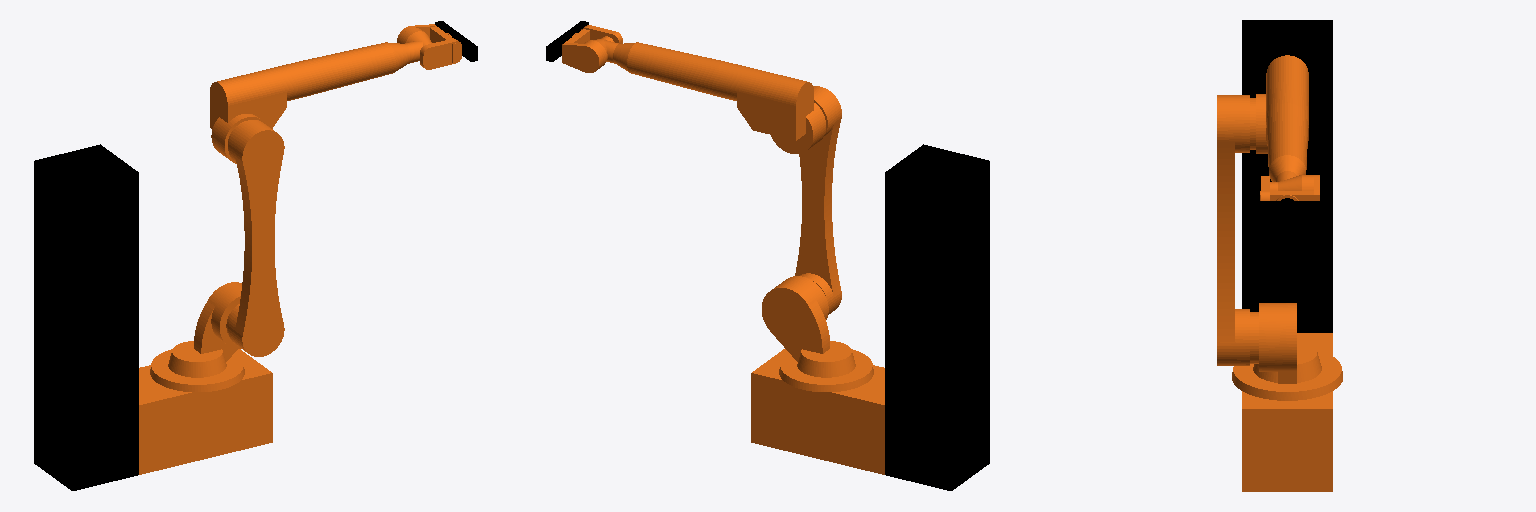
robot.urdf — kr20:
<?xml version="1.0" ?>
<!-- =================================================================================== -->
<!-- |    This document was autogenerated by xacro from kr20.xacro                     | -->
<!-- |    EDITING THIS FILE BY HAND IS NOT RECOMMENDED                                 | -->
<!-- =================================================================================== -->
<robot name="kr20">
  <!-- END - Include -->
  <!-- World frame (for Gazebo) -->
  <link name="world"/>
  <!-- Arm fixed to world frame  -->
  <joint name="world__base" type="fixed">
    <parent link="world"/>
    <child link="base"/>
    <origin rpy="0 0 0" xyz="0 0 0"/>
  </joint>
  <link name="base">
    <inertial>
      <mass value="157.633"/>
      <origin rpy="0 0 0" xyz="-0.5 0 0.65"/>
      <mass value="157.633"/>
      <inertia ixx="23.382228333333337" ixy="0" ixz="0" iyy="23.382228333333337" iyz="0" izz="2.364495"/>
    </inertial>
    <collision>
      <origin rpy="0 0 0" xyz="-0.5 0 0.65"/>
      <geometry>
        <box size="0.3 0.3 1.3"/>
      </geometry>
    </collision>
    <visual>
      <origin rpy="0 0 0" xyz="-0.5 0 0.65"/>
      <geometry>
        <box size="0.3 0.3 1.3"/>
      </geometry>
      <material name="Black"/>
    </visual>
  </link>
  <material name="Orange">
    <color rgba="0.95 0.5 0.15 1.0"/>
  </material>
  <material name="Grey">
    <color rgba="0.7 0.7 0.7 1.0"/>
  </material>
  <material name="Black">
    <color rgba="0.0 0.0 0.0 1.0"/>
  </material>
  <gazebo reference="base">
    <material>Gazebo/Black</material>
  </gazebo>
  <gazebo reference="link12">
    <material>Gazebo/Orange</material>
  </gazebo>
  <gazebo reference="link01">
    <material>Gazebo/Orange</material>
  </gazebo>
  <gazebo reference="link02">
    <material>Gazebo/Orange</material>
  </gazebo>
  <gazebo reference="link03">
    <material>Gazebo/Orange</material>
  </gazebo>
  <gazebo reference="link04">
    <material>Gazebo/Orange</material>
  </gazebo>
  <gazebo reference="link05">
    <material>Gazebo/Orange</material>
  </gazebo>
  <gazebo reference="gripper">
    <material>Gazebo/Black</material>
  </gazebo>
  <gazebo reference="gripper_left">
    <material>Gazebo/White</material>
    <mu1>1.0</mu1>
    <mu2>1.0</mu2>
    <kp>1000000.0</kp>
    <kd>1.0</kd>
    <minDepth>0.001</minDepth>
    <!--maxVel>0.1</maxVel>
    <fdir1>1 0 0</fdir1-->
  </gazebo>
  <gazebo reference="gripper_right">
    <material>Gazebo/White</material>
    <mu1>1.0</mu1>
    <mu2>1.0</mu2>
    <kp>1000000.0</kp>
    <kd>1.0</kd>
    <minDepth>0.001</minDepth>
    <!--maxVel>0.1</maxVel>
    <fdir1>1 0 0</fdir1-->
  </gazebo>
  <!-- BEGIN - Robot description -->
  <joint name="base__link01" type="prismatic">
    <axis xyz="0 0 1"/>
    <limit effort="1000" lower="0" upper="1" velocity="0.5"/>
    <origin rpy="0 0 0" xyz="0 0 0.15"/>
    <parent link="base"/>
    <child link="link12"/>
  </joint>
  <transmission name="trans_base__link01">
    <type>transmission_interface/SimpleTransmission</type>
    <joint name="base__link01">
      <hardwareInterface>hardware_interface/PositionJointInterface</hardwareInterface>
    </joint>
    <actuator name="motor_base__link01">
      <hardwareInterface>hardware_interface/PositionJointInterface</hardwareInterface>
      <mechanicalReduction>100</mechanicalReduction>
    </actuator>
  </transmission>
  <link name="link12">
    <inertial>
      <mass value="157.633"/>
      <origin rpy="0 0 0" xyz="-0.05 0 0"/>
      <mass value="157.633"/>
      <inertia ixx="2.364495" ixy="0" ixz="0" iyy="5.9112374999999995" iyz="0" izz="5.9112374999999995"/>
    </inertial>
    <collision>
      <origin rpy="0 0 0" xyz="-0.05 0 0"/>
      <geometry>
        <box size="0.6 0.3 0.3"/>
      </geometry>
    </collision>
    <visual>
      <origin rpy="0 0 0" xyz="-0.05 0 0"/>
      <geometry>
        <box size="0.6 0.3 0.3"/>
      </geometry>
      <material name="Orange"/>
    </visual>
  </link>
  <joint name="link12__link01" type="revolute">
    <axis xyz="0 0 1"/>
    <limit effort="1000" lower="-2" upper="2" velocity="0.5"/>
    <origin rpy="0 0 0" xyz="0 0 0.15"/>
    <parent link="link12"/>
    <child link="link01"/>
  </joint>
  <transmission name="trans_link12__link01">
    <type>transmission_interface/SimpleTransmission</type>
    <joint name="link12__link01">
      <hardwareInterface>hardware_interface/PositionJointInterface</hardwareInterface>
    </joint>
    <actuator name="motor_link12__link01">
      <hardwareInterface>hardware_interface/PositionJointInterface</hardwareInterface>
      <mechanicalReduction>100</mechanicalReduction>
    </actuator>
  </transmission>
  <link name="link01">
    <inertial>
      <mass value="157.633"/>
      <origin rpy="0 0 0" xyz="0 0 0"/>
      <inertia ixx="13.235" ixy="0" ixz="0" iyy="13.235" iyz="0" izz="9.655"/>
    </inertial>
    <collision>
      <origin rpy="0 0 0" xyz="0 0 0"/>
      <geometry>
        <mesh filename="package://kuka_kr20_description/meshes/link01.stl" scale="0.001 0.001 0.001"/>
      </geometry>
    </collision>
    <visual>
      <origin rpy="0 0 0" xyz="0 0 0"/>
      <geometry>
        <mesh filename="package://kuka_kr20_description/meshes/link01.stl" scale="0.001 0.001 0.001"/>
      </geometry>
      <material name="Orange"/>
    </visual>
  </link>
  <joint name="link01__link02" type="revolute">
    <axis xyz="0 1 0"/>
    <limit effort="1000" lower="-1.5708" upper="1.7453" velocity="0.5"/>
    <origin rpy="0 0 0" xyz="0.160 -0.095 0.220"/>
    <parent link="link01"/>
    <child link="link02"/>
  </joint>
  <transmission name="trans_link01__link02">
    <type>transmission_interface/SimpleTransmission</type>
    <joint name="link01__link02">
      <hardwareInterface>hardware_interface/PositionJointInterface</hardwareInterface>
    </joint>
    <actuator name="motor_link01__link02">
      <hardwareInterface>hardware_interface/PositionJointInterface</hardwareInterface>
      <mechanicalReduction>100</mechanicalReduction>
    </actuator>
  </transmission>
  <link name="link02">
    <inertial>
      <mass value="10"/>
      <origin rpy="0 0 0" xyz="0 0 0"/>
      <inertia ixx="10" ixy="0" ixz="0" iyy="10" iyz="0" izz="10"/>
    </inertial>
    <collision>
      <origin rpy="0 0 0" xyz="0 0 0"/>
      <geometry>
        <mesh filename="package://kuka_kr20_description/meshes/link02.stl" scale="0.001 0.001 0.001"/>
      </geometry>
    </collision>
    <visual>
      <origin rpy="0 0 0" xyz="0 0 0"/>
      <geometry>
        <mesh filename="package://kuka_kr20_description/meshes/link02.stl" scale="0.001 0.001 0.001"/>
      </geometry>
      <material name="Orange"/>
    </visual>
  </link>
  <joint name="link02__link03" type="revolute">
    <axis xyz="0 -1 0"/>
    <limit effort="1000" lower="-1.55" upper="2" velocity="0.5"/>
    <origin rpy="0 0 0" xyz="0.00 -0.01 0.780"/>
    <parent link="link02"/>
    <child link="link03"/>
  </joint>
  <transmission name="trans_link02__link03">
    <type>transmission_interface/SimpleTransmission</type>
    <joint name="link02__link03">
      <hardwareInterface>hardware_interface/PositionJointInterface</hardwareInterface>
    </joint>
    <actuator name="motor_link02__link03">
      <hardwareInterface>hardware_interface/PositionJointInterface</hardwareInterface>
      <mechanicalReduction>100</mechanicalReduction>
    </actuator>
  </transmission>
  <link name="link03">
    <inertial>
      <mass value="7"/>
      <origin rpy="0 0 0" xyz="0 0 0"/>
      <inertia ixx="5" ixy="0" ixz="0" iyy="5" iyz="0" izz="5"/>
    </inertial>
    <collision>
      <origin rpy="0 0 0" xyz="0 0 0"/>
      <geometry>
        <mesh filename="package://kuka_kr20_description/meshes/link03.stl" scale="0.001 0.001 0.001"/>
      </geometry>
    </collision>
    <visual>
      <origin rpy="0 0 0" xyz="0 0 0"/>
      <geometry>
        <mesh filename="package://kuka_kr20_description/meshes/link03.stl" scale="0.001 0.001 0.001"/>
      </geometry>
      <material name="Orange"/>
    </visual>
  </link>
  <joint name="link03__link04" type="revolute">
    <axis xyz="1 0 0"/>
    <limit effort="1000" lower="-3.0" upper="3.0" velocity="0.5"/>
    <origin rpy="0 0 0" xyz="0.700 0.105 0.150"/>
    <parent link="link03"/>
    <child link="link04"/>
  </joint>
  <transmission name="trans_link03__link04">
    <type>transmission_interface/SimpleTransmission</type>
    <joint name="link03__link04">
      <hardwareInterface>hardware_interface/PositionJointInterface</hardwareInterface>
    </joint>
    <actuator name="motor_link03__link04">
      <hardwareInterface>hardware_interface/PositionJointInterface</hardwareInterface>
      <mechanicalReduction>100</mechanicalReduction>
    </actuator>
  </transmission>
  <link name="link04">
    <inertial>
      <mass value="2"/>
      <origin rpy="0 0 0" xyz="0 0 0"/>
      <inertia ixx="1" ixy="0" ixz="0" iyy="1" iyz="0" izz="1"/>
    </inertial>
    <collision>
      <origin rpy="0 0 0" xyz="0 0 0"/>
      <geometry>
        <mesh filename="package://kuka_kr20_description/meshes/link04.stl" scale="0.001 0.001 0.001"/>
      </geometry>
    </collision>
    <visual>
      <origin rpy="0 0 0" xyz="0 0 0"/>
      <geometry>
        <mesh filename="package://kuka_kr20_description/meshes/link04.stl" scale="0.001 0.001 0.001"/>
      </geometry>
      <material name="Orange"/>
    </visual>
  </link>
  <joint name="link04__link05" type="revolute">
    <axis xyz="0 -1 0"/>
    <limit effort="1000" lower="-2.0" upper="2.0" velocity="0.5"/>
    <origin rpy="0 0 0" xyz="0.155 0.000 0.000"/>
    <parent link="link04"/>
    <child link="link05"/>
  </joint>
  <transmission name="trans_link04__link05">
    <type>transmission_interface/SimpleTransmission</type>
    <joint name="link04__link05">
      <hardwareInterface>hardware_interface/PositionJointInterface</hardwareInterface>
    </joint>
    <actuator name="motor_link04__link05">
      <hardwareInterface>hardware_interface/PositionJointInterface</hardwareInterface>
      <mechanicalReduction>100</mechanicalReduction>
    </actuator>
  </transmission>
  <link name="link05">
    <inertial>
      <mass value="2"/>
      <origin rpy="0 0 0" xyz="0 0 0"/>
      <inertia ixx="1" ixy="0" ixz="0" iyy="1" iyz="0" izz="1"/>
    </inertial>
    <collision>
      <origin rpy="0 0 0" xyz="0 0 0"/>
      <geometry>
        <mesh filename="package://kuka_kr20_description/meshes/link05.stl" scale="0.001 0.001 0.001"/>
      </geometry>
    </collision>
    <visual>
      <origin rpy="0 0 0" xyz="0 0 0"/>
      <geometry>
        <mesh filename="package://kuka_kr20_description/meshes/link05.stl" scale="0.001 0.001 0.001"/>
      </geometry>
      <material name="Orange"/>
    </visual>
  </link>
  <!-- GRIPPER START HERE -->
  <joint name="link05__gripper" type="revolute">
    <axis xyz="1 0 0"/>
    <limit effort="1000" lower="-1.57" upper="1.57" velocity="0.5"/>
    <origin rpy="0 0 0" xyz="0.115 0 0"/>
    <parent link="link05"/>
    <child link="gripper"/>
  </joint>
  <transmission name="trans_link05__gripper">
    <type>transmission_interface/SimpleTransmission</type>
    <joint name="link05__gripper">
      <hardwareInterface>hardware_interface/PositionJointInterface</hardwareInterface>
    </joint>
    <actuator name="motor_link05__gripper">
      <hardwareInterface>hardware_interface/PositionJointInterface</hardwareInterface>
      <mechanicalReduction>100</mechanicalReduction>
    </actuator>
  </transmission>
  <link name="gripper">
    <inertial>
      <mass value="1"/>
      <origin rpy="0 0 0" xyz="0 0 0"/>
      <inertia ixx="1" ixy="0" ixz="0" iyy="1" iyz="0" izz="1"/>
    </inertial>
    <collision>
      <origin rpy="0 0 0" xyz="0 0 0"/>
      <geometry>
        <mesh filename="package://kuka_kr20_description/meshes/gripper_base01.stl" scale="0.001 0.001 0.001"/>
      </geometry>
    </collision>
    <visual>
      <origin rpy="0 0 0" xyz="0 0 0"/>
      <geometry>
        <mesh filename="package://kuka_kr20_description/meshes/gripper_base01.stl" scale="0.001 0.001 0.001"/>
      </geometry>
      <material name="Black"/>
    </visual>
  </link>
  <joint name="gripper__gripper_left" type="prismatic">
    <axis xyz="1 0 0"/>
    <limit effort="1000" lower="-0.09" upper="0.0" velocity="0.5"/>
    <origin rpy="1.5708 0 1.5708" xyz="0.04 0.00 0.000"/>
    <parent link="gripper"/>
    <child link="gripper_left"/>
  </joint>
  <transmission name="trans_gripper__gripper_left">
    <type>transmission_interface/SimpleTransmission</type>
    <joint name="gripper__gripper_left">
      <hardwareInterface>hardware_interface/PositionJointInterface</hardwareInterface>
    </joint>
    <actuator name="motor_gripper__gripper_left">
      <hardwareInterface>hardware_interface/PositionJointInterface</hardwareInterface>
      <mechanicalReduction>100</mechanicalReduction>
    </actuator>
  </transmission>
  <link name="gripper_left">
    <inertial>
      <mass value="0.1"/>
      <origin rpy="0 0 0" xyz="0 0 0"/>
      <inertia ixx="1" ixy="0" ixz="0" iyy="1" iyz="0" izz="1"/>
    </inertial>
    <collision>
      <origin rpy="0 0 0" xyz="0 0 0"/>
      <geometry>
        <mesh filename="package://kuka_kr20_description/meshes/gripper_left.stl" scale="0.001 0.001 0.001"/>
      </geometry>
    </collision>
    <visual>
      <origin rpy="0 0 0" xyz="0 0 0"/>
      <geometry>
        <mesh filename="package://kuka_kr20_description/meshes/gripper_left.stl" scale="0.001 0.001 0.001"/>
      </geometry>
      <material name="Grey"/>
    </visual>
  </link>
  <joint name="gripper__gripper_right" type="prismatic">
    <axis xyz="1 0 0"/>
    <limit effort="1000" lower="0.0" upper="0.09" velocity="0.5"/>
    <origin rpy="1.5708 0 1.5708" xyz="0.04 0.00 0.000"/>
    <parent link="gripper"/>
    <child link="gripper_right"/>
  </joint>
  <transmission name="trans_gripper__gripper_right">
    <type>transmission_interface/SimpleTransmission</type>
    <joint name="gripper__gripper_right">
      <hardwareInterface>hardware_interface/PositionJointInterface</hardwareInterface>
    </joint>
    <actuator name="motor_gripper__gripper_right">
      <hardwareInterface>hardware_interface/PositionJointInterface</hardwareInterface>
      <mechanicalReduction>100</mechanicalReduction>
    </actuator>
  </transmission>
  <link name="gripper_right">
    <inertial>
      <mass value="0.1"/>
      <origin rpy="0 0 0" xyz="0 0 0"/>
      <inertia ixx="1" ixy="0" ixz="0" iyy="1" iyz="0" izz="1"/>
    </inertial>
    <collision>
      <origin rpy="0 0 0" xyz="0 0 0"/>
      <geometry>
        <mesh filename="package://kuka_kr20_description/meshes/gripper_right.stl" scale="0.001 0.001 0.001"/>
      </geometry>
    </collision>
    <visual>
      <origin rpy="0 0 0" xyz="0 0 0"/>
      <geometry>
        <mesh filename="package://kuka_kr20_description/meshes/gripper_right.stl" scale="0.001 0.001 0.001"/>
      </geometry>
      <material name="Grey"/>
    </visual>
  </link>
  <!-- GRIPPER END HERE -->
  <!-- END - Robot description -->
  <gazebo>
    <plugin filename="libgazebo_ros_control.so" name="gazebo_ros_control">
      <robotSimType>gazebo_ros_control/DefaultRobotHWSim</robotSimType>
      <robotNamespace>/kr20</robotNamespace>
      <legacyModeNS>true</legacyModeNS>
    </plugin>
  </gazebo>
</robot>

--- Render facts (derived) ---
Views: 3 orthographic renders of the robot side by side, from view 1: azimuth 30°, elevation 25°; view 2: azimuth 150°, elevation 25°; view 3: azimuth 270°, elevation 25°.
Robot: kr20 — 11 links, 10 joints (6 revolute, 3 prismatic, 1 fixed); root link world; default pose: every joint at zero.
Visible links, largest first — view 1: base, link12, link02, link03, link01, link05, link04, gripper; view 2: base, link12, link03, link01, link02, link05, link04, gripper; view 3: base, link12, link02, link01, link03, gripper, link04, link05.
Boxes of the visible links, x1,y1,x2,y2 form: base: (34,144,138,490); link12: (139,349,272,474); link02: (226,120,284,356); link03: (210,42,396,163); link01: (150,282,244,391); link05: (397,24,461,69); link04: (387,28,431,72); gripper: (435,21,477,61); base: (885,144,989,490); link12: (751,349,884,474); link03: (627,42,825,153); link01: (762,276,873,391); link02: (795,86,841,314); link05: (562,25,622,72); link04: (584,38,636,72); gripper: (546,21,588,61); base: (1242,20,1332,332); link12: (1242,333,1332,491); link02: (1217,95,1258,365); link01: (1232,303,1342,400); link03: (1256,55,1308,169); gripper: (1245,198,1329,220); link04: (1269,155,1313,190); link05: (1260,175,1319,200).
Bounding box of the posed robot: 1.83 × 0.4199 × 1.52 m (x, y, z).
6 mesh visuals loaded from 8 distinct referenced files (1 binary STL, 5 ASCII STL); not drawn: 2 (reference not matched to a file when rendering).